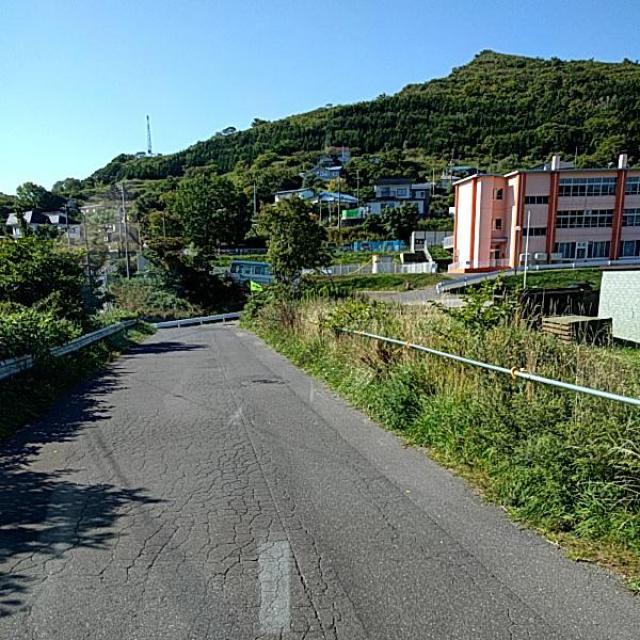Crack: (64, 337, 409, 640)
